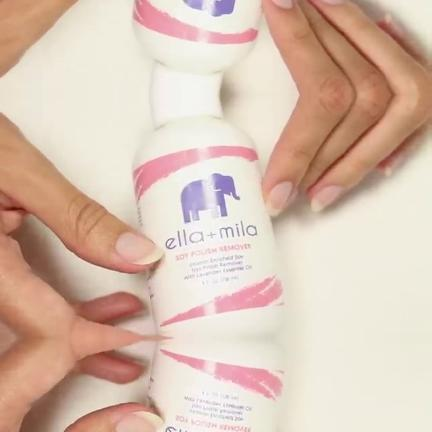Nail: (115, 231, 162, 264), (115, 410, 162, 432), (266, 180, 293, 215), (310, 185, 343, 211), (272, 0, 293, 8), (321, 0, 343, 3)
